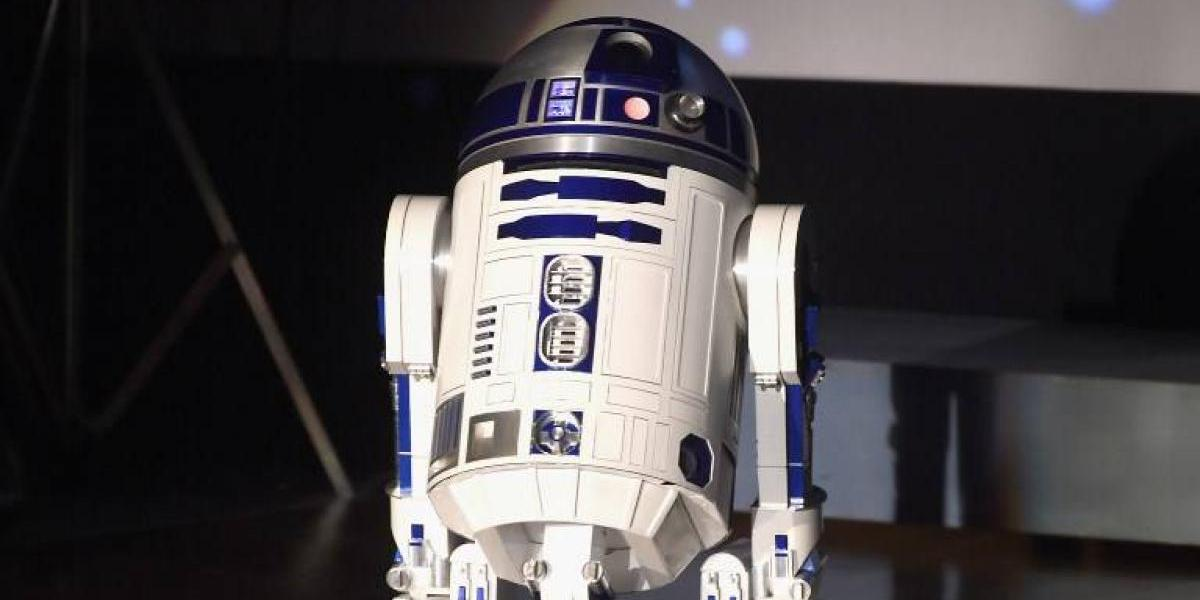r2d2: (387, 16, 827, 597)
